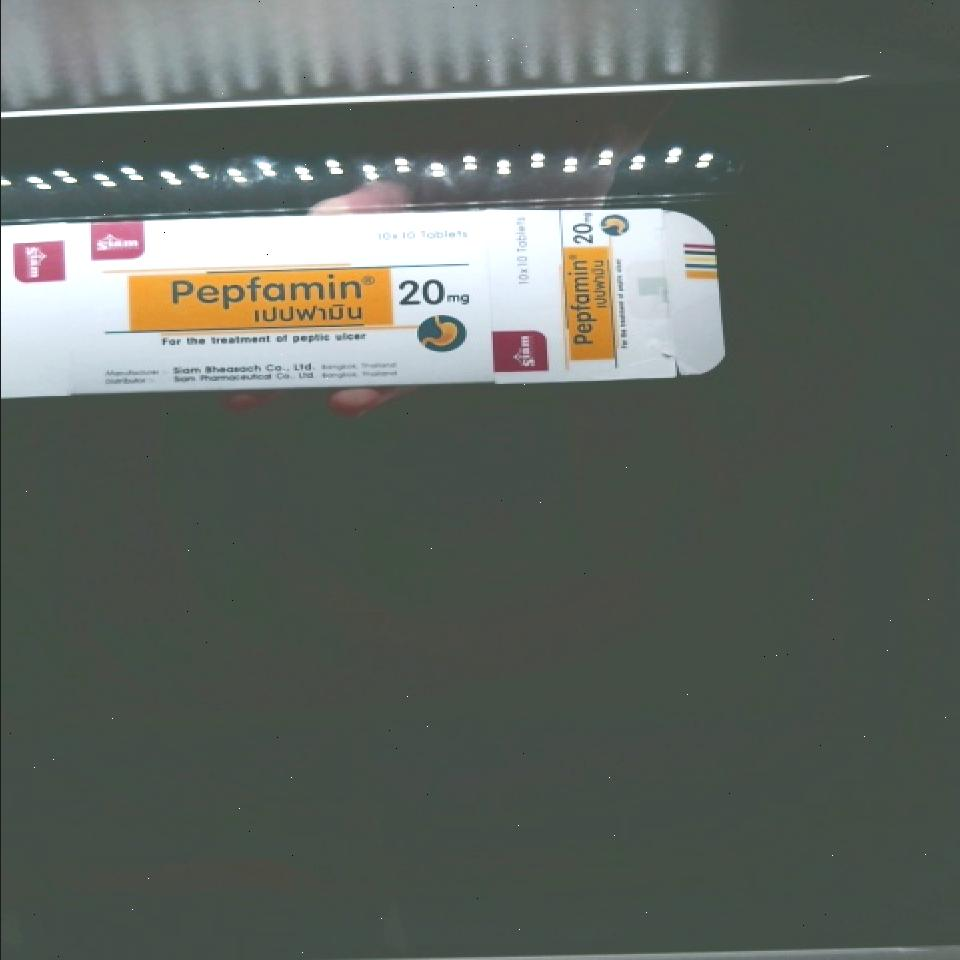medicine_box: (0, 198, 720, 397)
medicine_label_obb: (155, 264, 379, 332)
